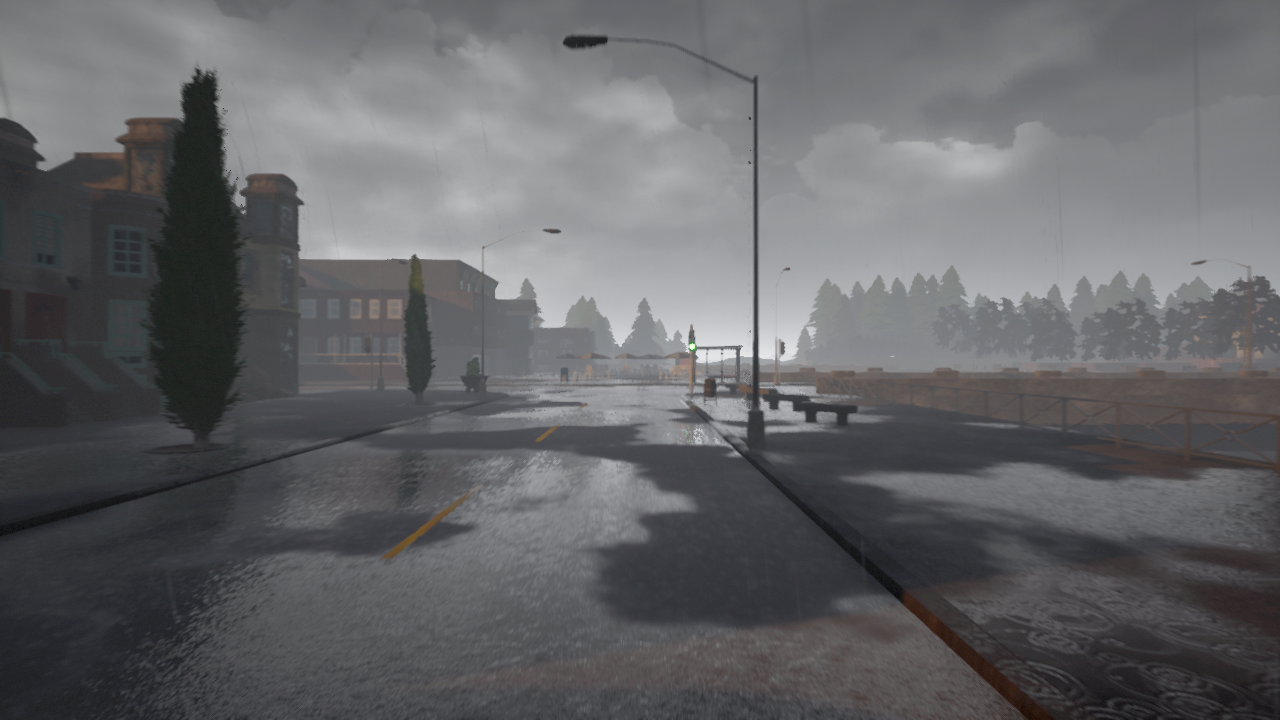green: (687, 330, 697, 352)
